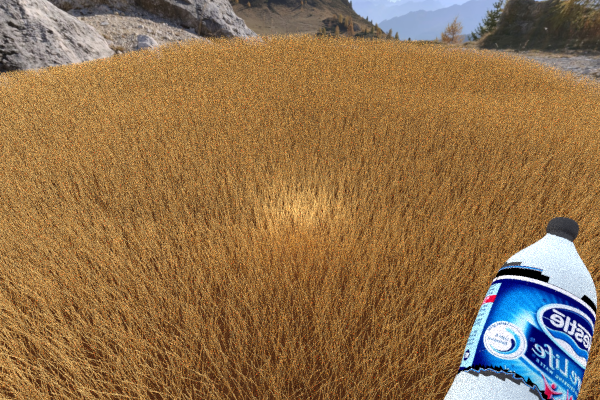Plastic Bottle: (418, 216, 596, 400), (42, 247, 200, 343)
